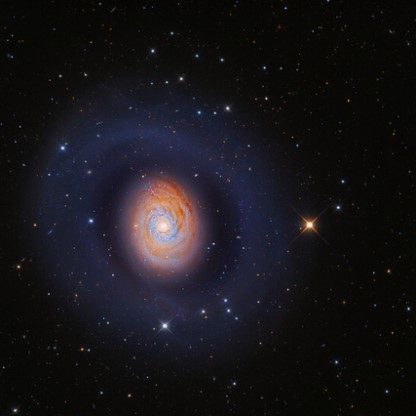Messier 94: (46, 92, 291, 363)
